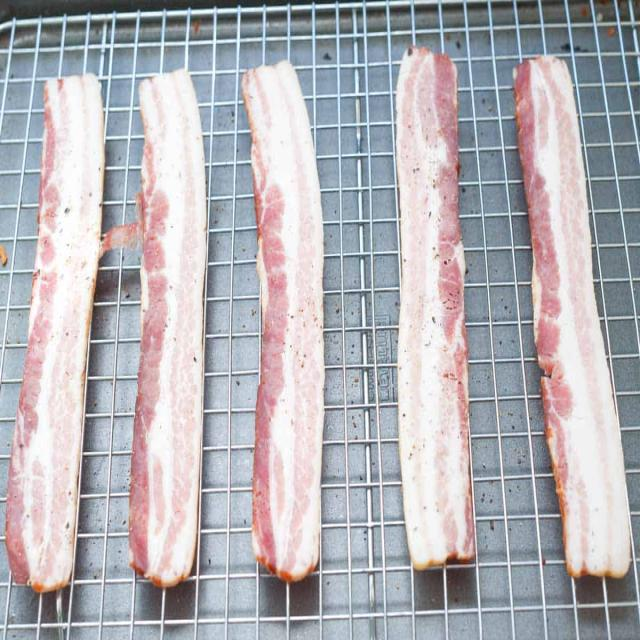Bacon: (514, 56, 631, 578), (6, 75, 105, 592), (242, 60, 325, 581), (396, 47, 475, 569), (129, 69, 206, 587)
